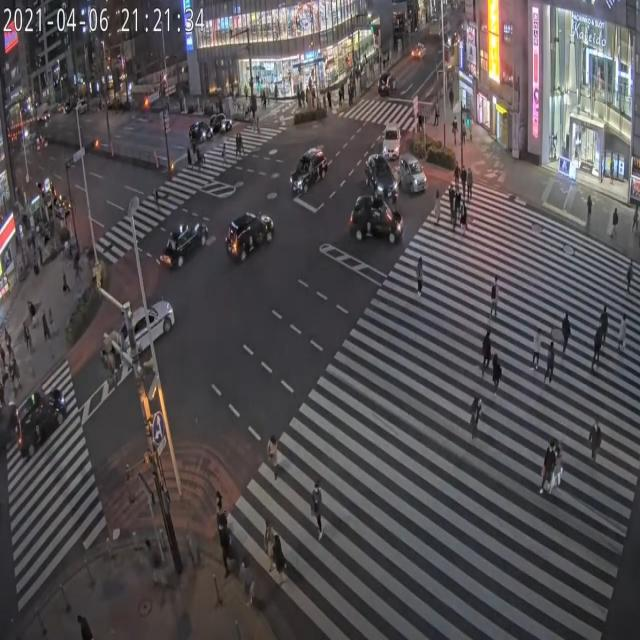humans: (217, 512, 235, 584), (238, 544, 258, 608), (310, 468, 326, 541), (466, 390, 484, 442), (588, 410, 604, 468), (546, 330, 560, 384), (264, 438, 282, 479), (213, 487, 227, 539), (556, 305, 571, 352), (479, 324, 494, 370), (529, 327, 545, 370), (272, 531, 284, 586), (491, 351, 505, 397), (488, 275, 502, 319), (263, 519, 274, 574), (624, 253, 636, 302), (416, 252, 427, 305), (592, 317, 602, 372), (553, 443, 564, 489), (618, 308, 628, 356), (543, 445, 553, 491), (432, 188, 441, 234), (601, 306, 612, 343), (447, 177, 454, 218), (453, 163, 461, 194), (451, 190, 456, 238), (461, 201, 467, 234), (455, 188, 461, 219), (466, 166, 472, 192), (462, 165, 466, 192)
